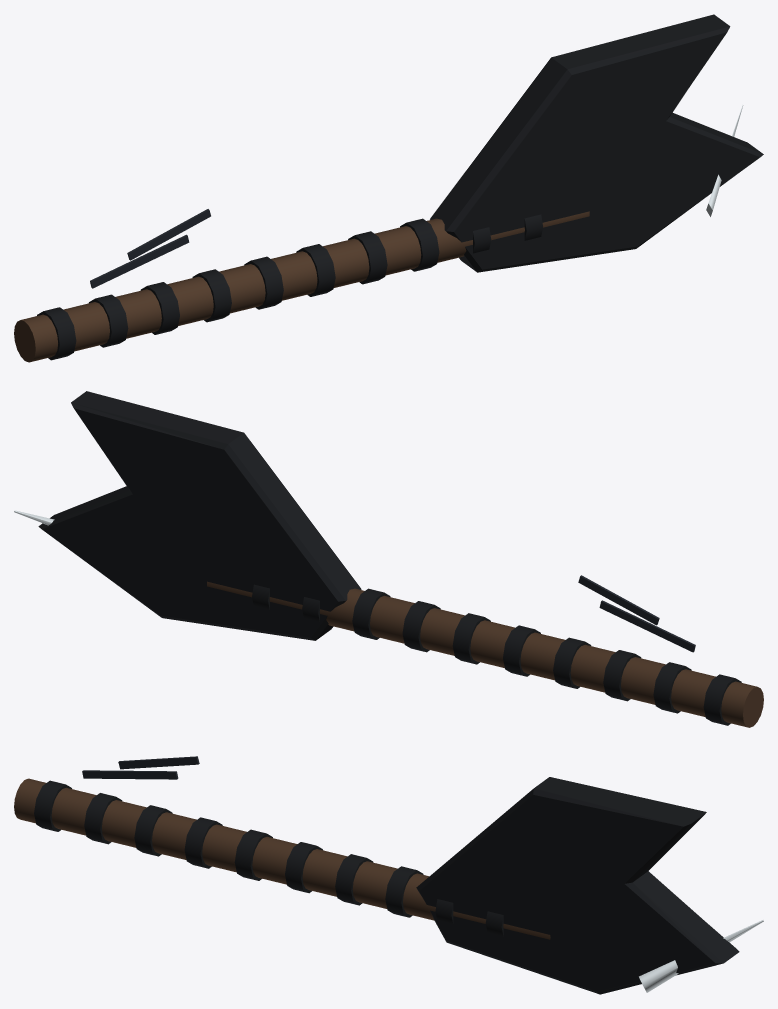
The model's file is fantasy-lab-eclipse-scythe-v1.glb.
The picture shows the model from 3 angles, top to bottom: view 1: azimuth 30°, elevation 25°; view 2: azimuth 150°, elevation 25°; view 3: azimuth 330°, elevation 25°; orthographic projection. The views are drawn at different scales.
Visible parts, largest first — view 1: Eclipse Scythe; view 2: Eclipse Scythe; view 3: Eclipse Scythe.
Part boxes in pixels (box(x1,y1,x2,y2)): Eclipse Scythe: box(14, 14, 763, 362); Eclipse Scythe: box(14, 391, 763, 727); Eclipse Scythe: box(14, 756, 763, 994).
Size of the model in its own units: 3.14 by 0.8093 by 0.3484.
